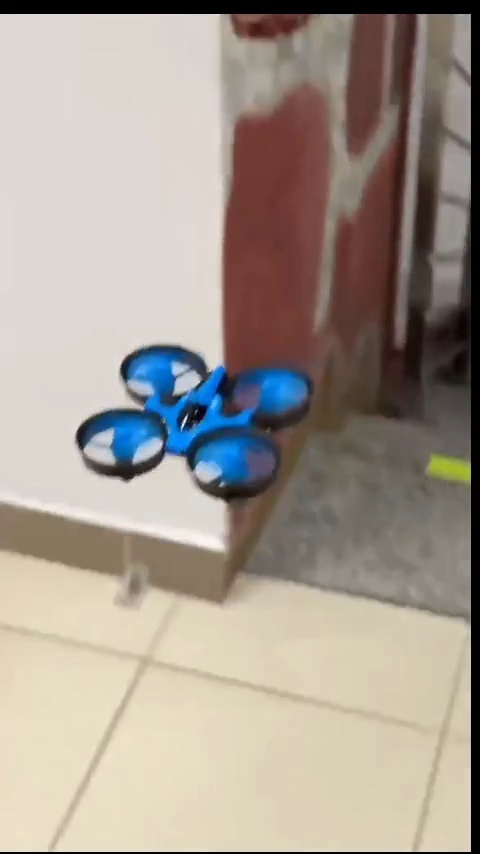drone: (72, 343, 316, 497)
